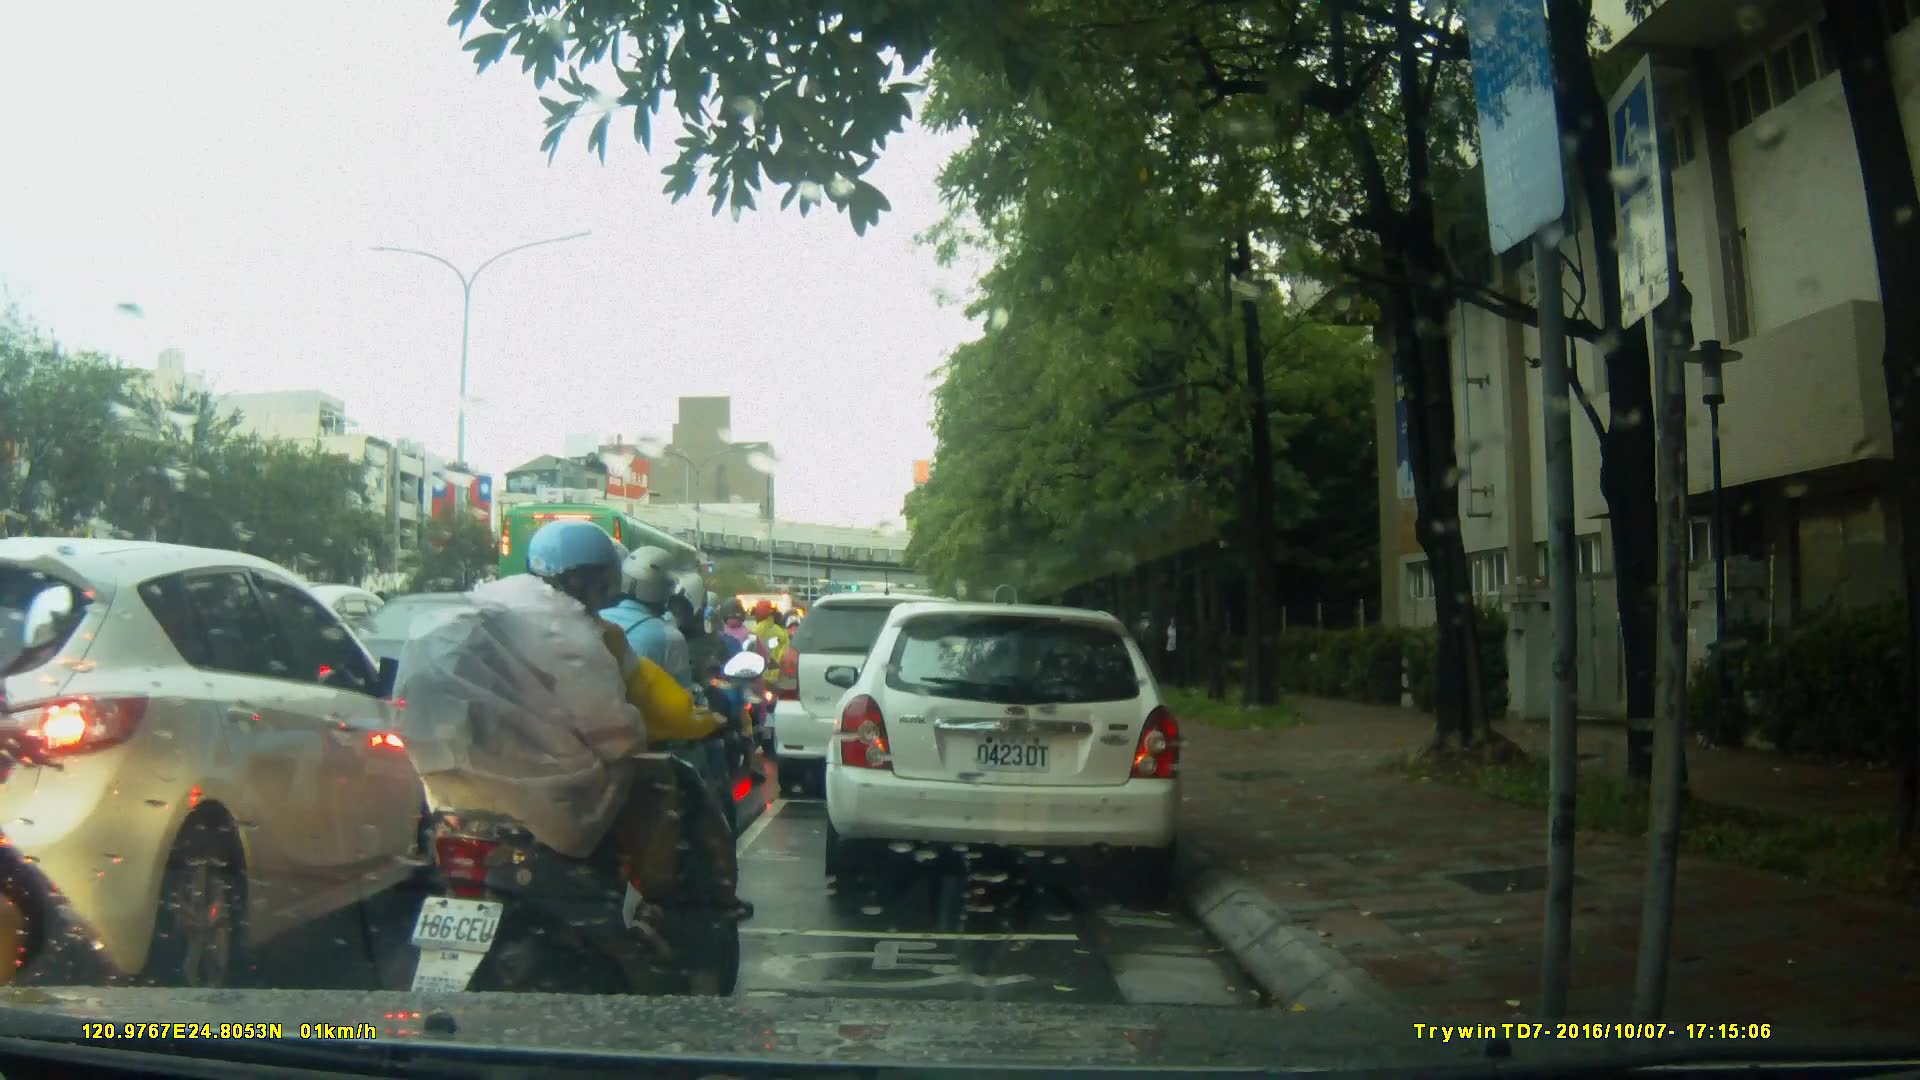rider: (391, 518, 765, 1058), (549, 535, 755, 921), (617, 562, 723, 824), (688, 585, 767, 787), (707, 598, 779, 764), (749, 598, 797, 737)
vehicle: (2, 536, 455, 987), (831, 592, 1196, 897), (312, 590, 629, 776), (774, 590, 999, 803), (499, 501, 712, 636)
